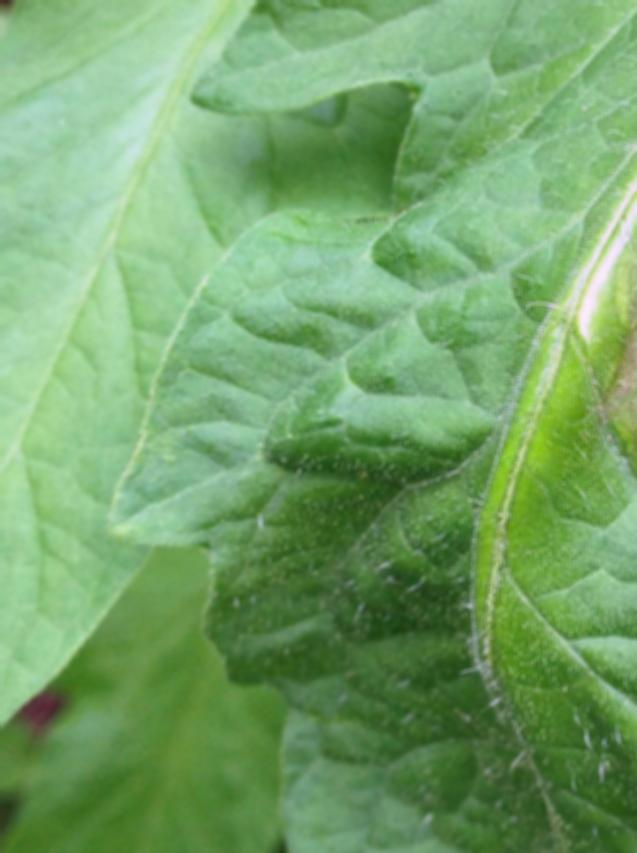Tomato leaf late blight: (137, 0, 637, 853)
